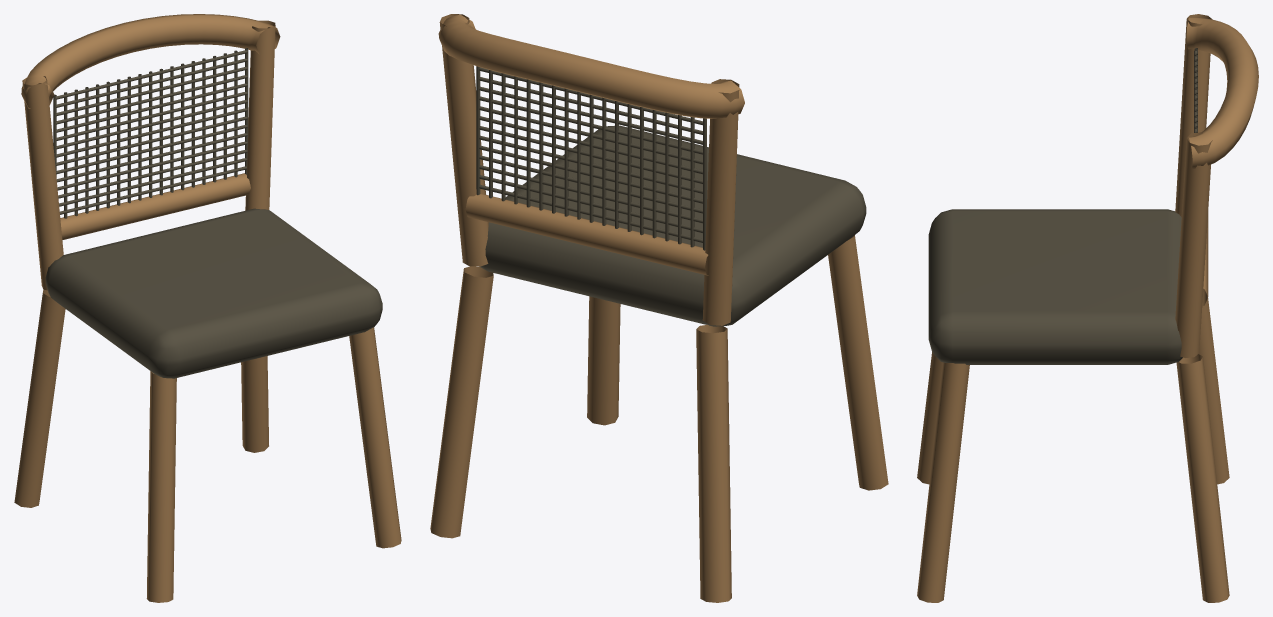
The model's file is wh-outdoor-weaved-chair.glb.
The picture shows the model from 3 angles, left to right: view 1: azimuth 30°, elevation 25°; view 2: azimuth 150°, elevation 25°; view 3: azimuth 270°, elevation 25°; orthographic projection. The views are drawn at different scales.
Parts seen in each view (by area): view 1: Upholstered seat.021, Chair leg.068; view 2: Chair leg.068, Upholstered seat.021; view 3: Upholstered seat.021, Chair leg.068.
Boxes of the visible parts, x1=… form: Upholstered seat.021: x1=45, y1=48, x2=382, y2=378; Chair leg.068: x1=14, y1=14, x2=401, y2=602; Chair leg.068: x1=430, y1=14, x2=888, y2=602; Upholstered seat.021: x1=476, y1=66, x2=866, y2=326; Upholstered seat.021: x1=928, y1=48, x2=1197, y2=364; Chair leg.068: x1=917, y1=14, x2=1258, y2=602.
Bounding box in the file's own units: 0.52 × 0.86 × 0.56.
